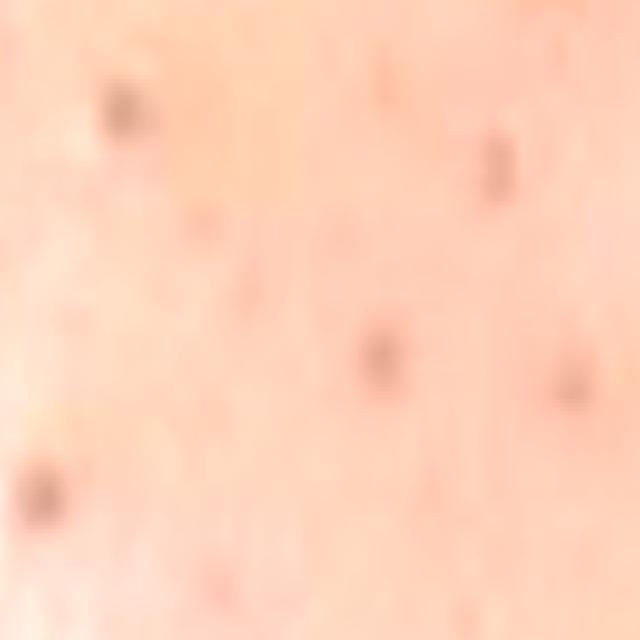blackhead: (462, 118, 528, 220), (546, 330, 608, 427), (362, 318, 426, 404), (12, 452, 76, 536), (104, 75, 164, 157)
